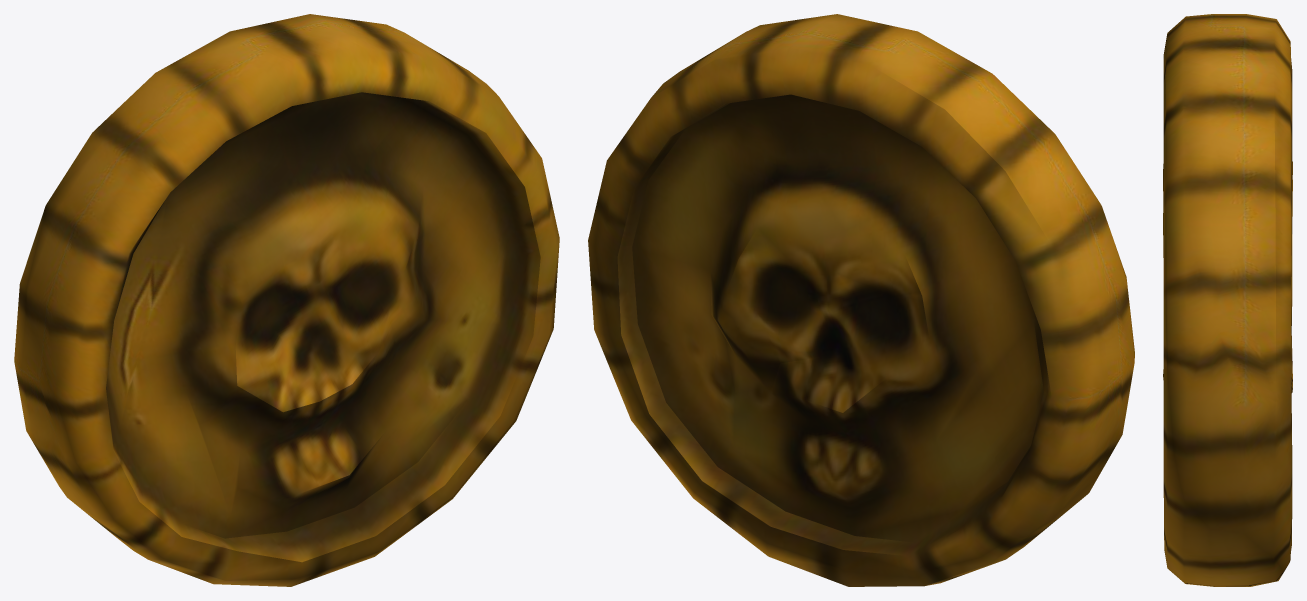
Rendered from coin.glb.
3 renders of one model, left to right at view 1: azimuth 30°, elevation 25°; view 2: azimuth 150°, elevation 25°; view 3: azimuth 270°, elevation 25°, orthographic. The views are drawn at different scales.
Visible parts, largest first — view 1: Object_2; view 2: Object_2; view 3: Object_2.
Part boxes in pixels (x1,y1,x2,y2): Object_2: (14, 14, 559, 586); Object_2: (588, 14, 1134, 586); Object_2: (1163, 14, 1292, 586).
Bounding box in the file's own units: 4.02 × 4.03 × 0.9107.
1 material, 1 textured.
